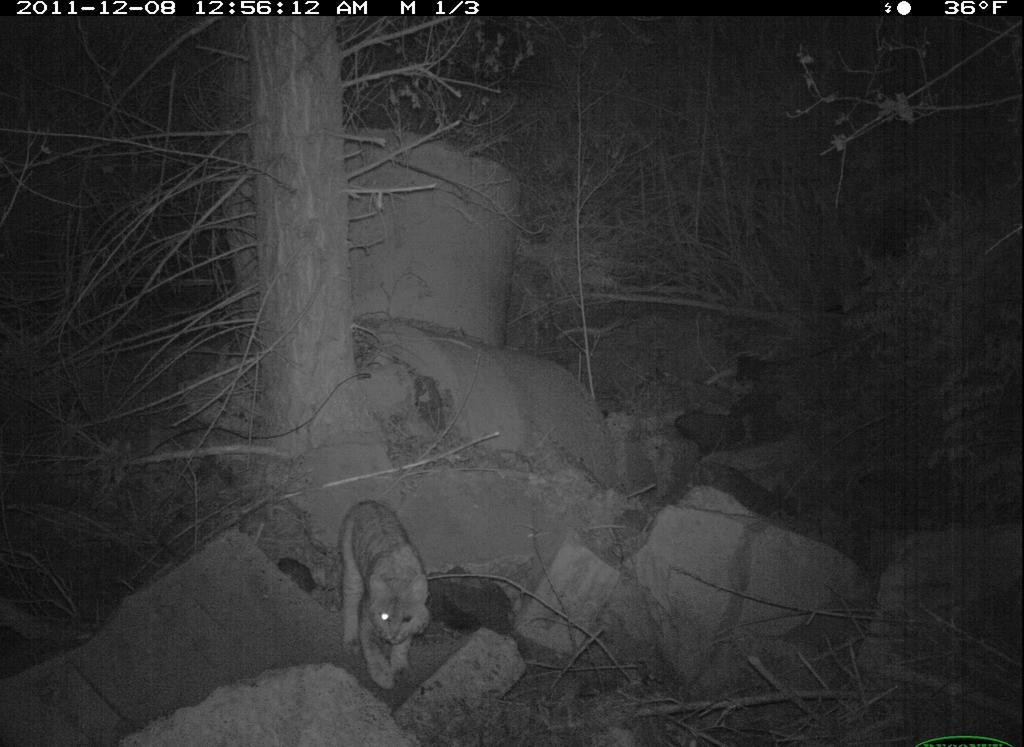bobcat: (332, 495, 434, 694)
